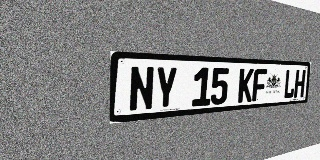1: (192, 67, 212, 107)
5: (211, 68, 229, 105)
F: (252, 69, 267, 102)
H: (294, 70, 306, 98)
K: (238, 68, 254, 103)
L: (283, 69, 296, 99)
N: (129, 66, 155, 112)
Y: (154, 66, 178, 110)
